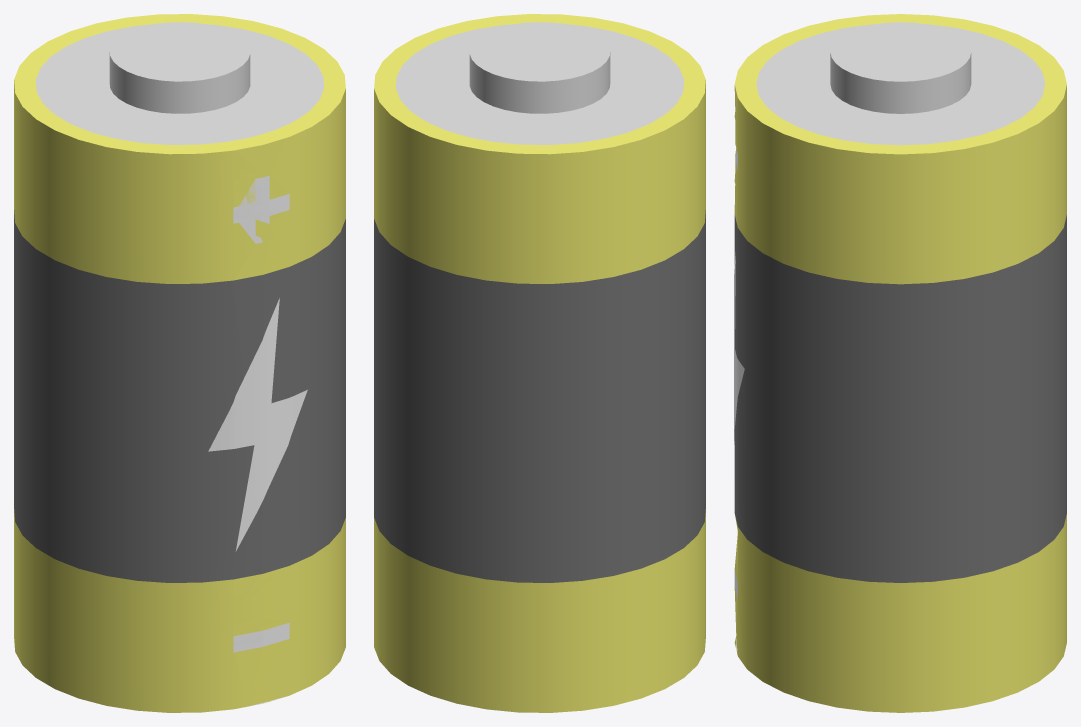
The model's file is battery.fbx.
3 views of the same model, side by side, from view 1: azimuth 30°, elevation 25°; view 2: azimuth 150°, elevation 25°; view 3: azimuth 270°, elevation 25° (orthographic).
Visible parts, largest first — view 1: 平面; view 2: 平面; view 3: 平面.
Boxes of the visible parts, x1,y1,x2,y2 form: 平面: [14, 14, 345, 712]; 平面: [374, 14, 705, 712]; 平面: [734, 14, 1066, 712].
Bounding box in the file's own units: 200 × 392 × 200.
